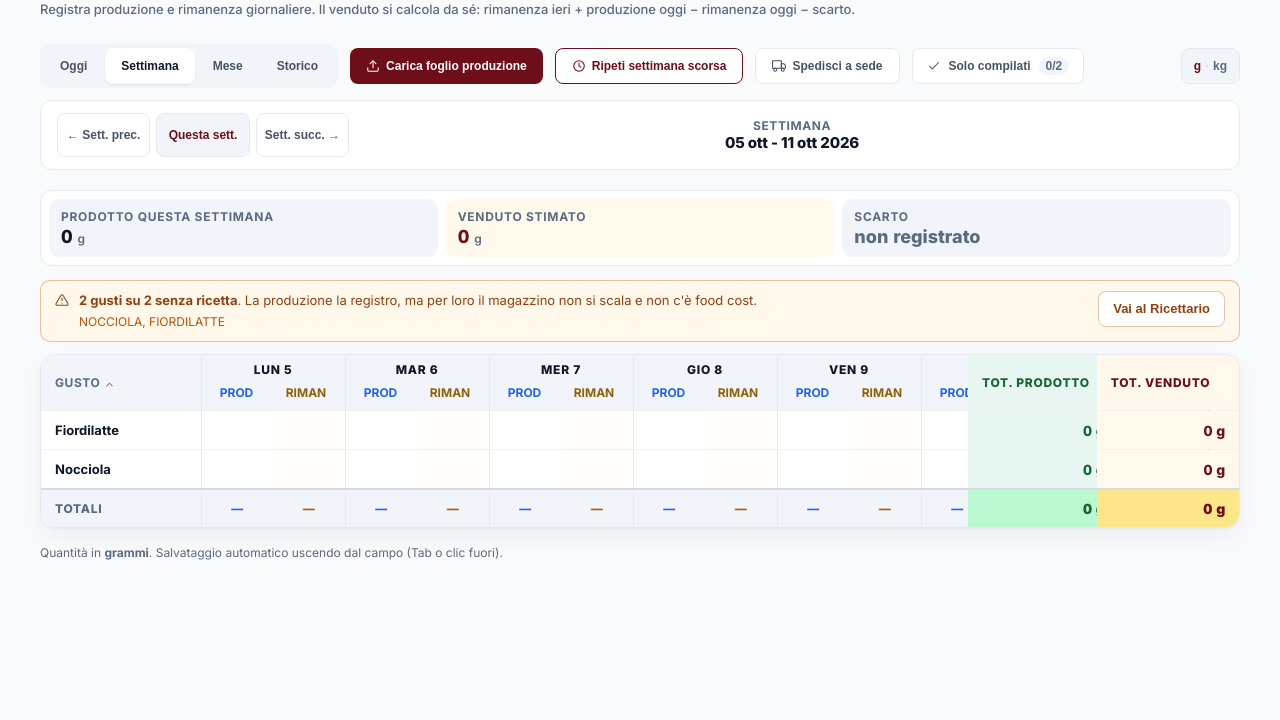
la domanda la fa Foodos, e Annulla vuol dire annulla › copia della settimana scorsa: se annullo, non viene scritta nessuna cella
The image size is (1280, 720).
Click the button "Ripeti settimana scorsa". click: (649, 66)
box: [555, 48, 743, 84]
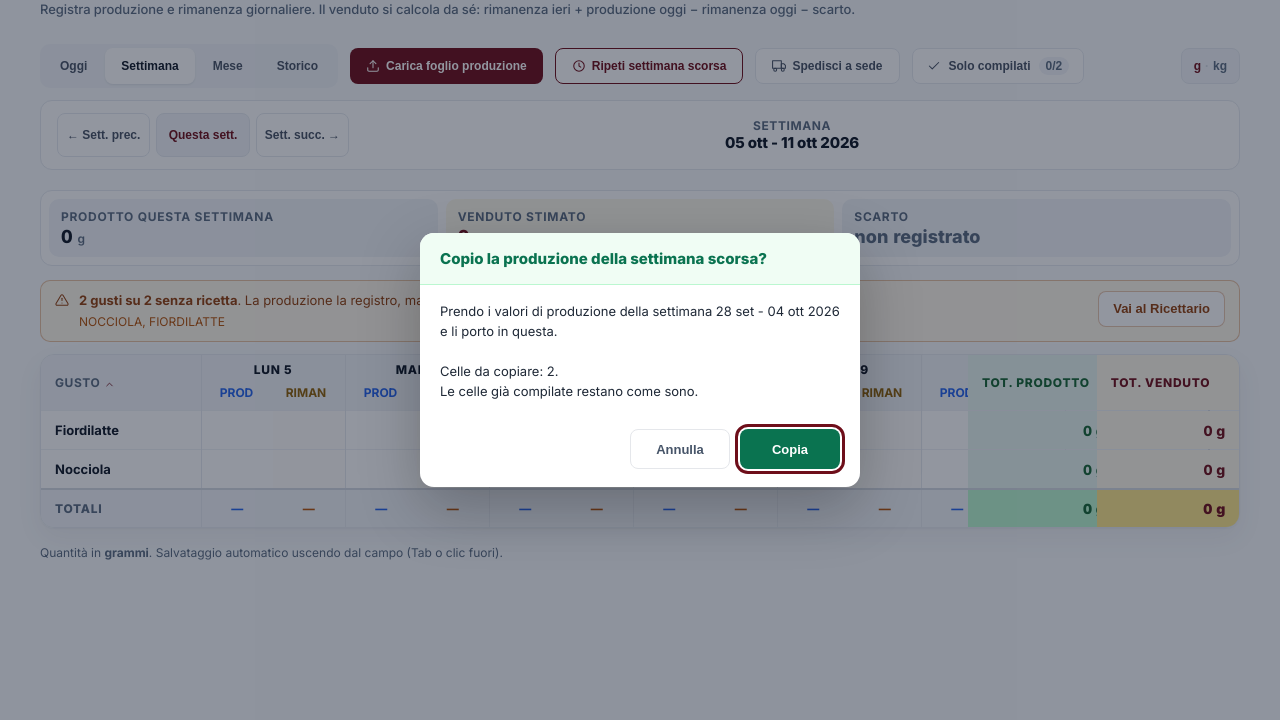
Click the button "Annulla". click: (680, 449)
box: [630, 429, 730, 469]
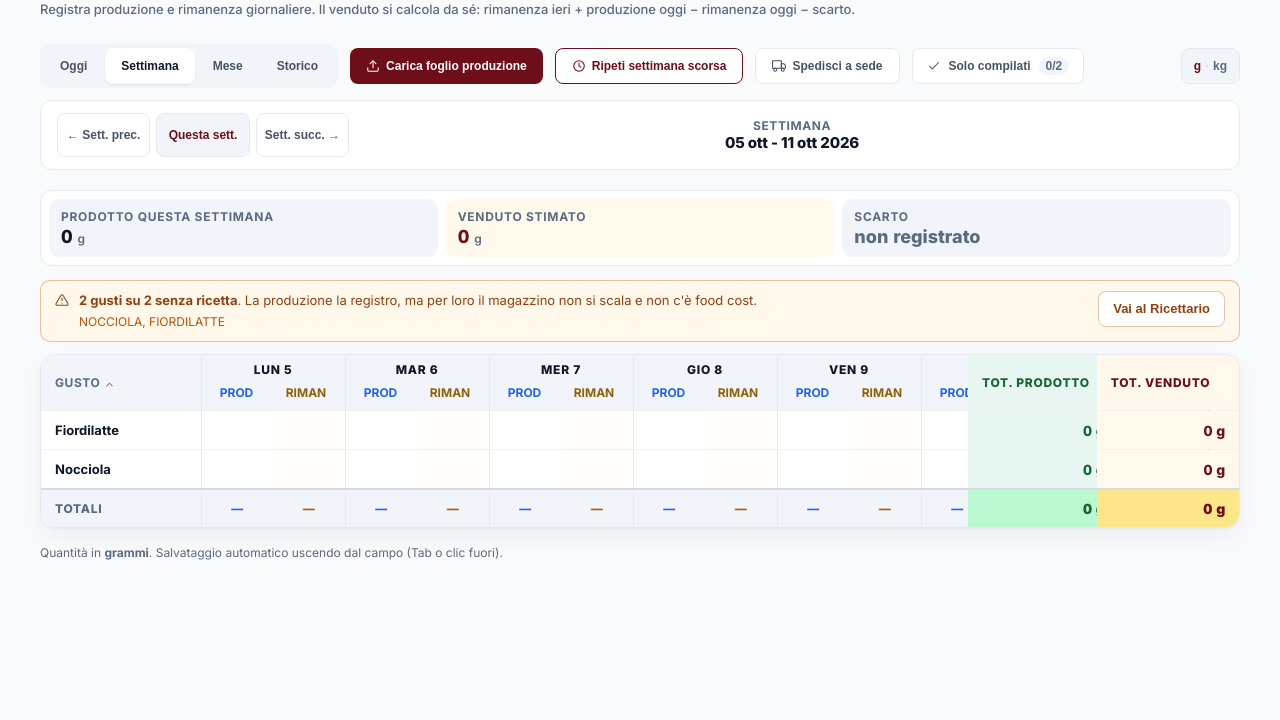
Result: the text "Copio la produzione della settimana scorsa?" is gone
